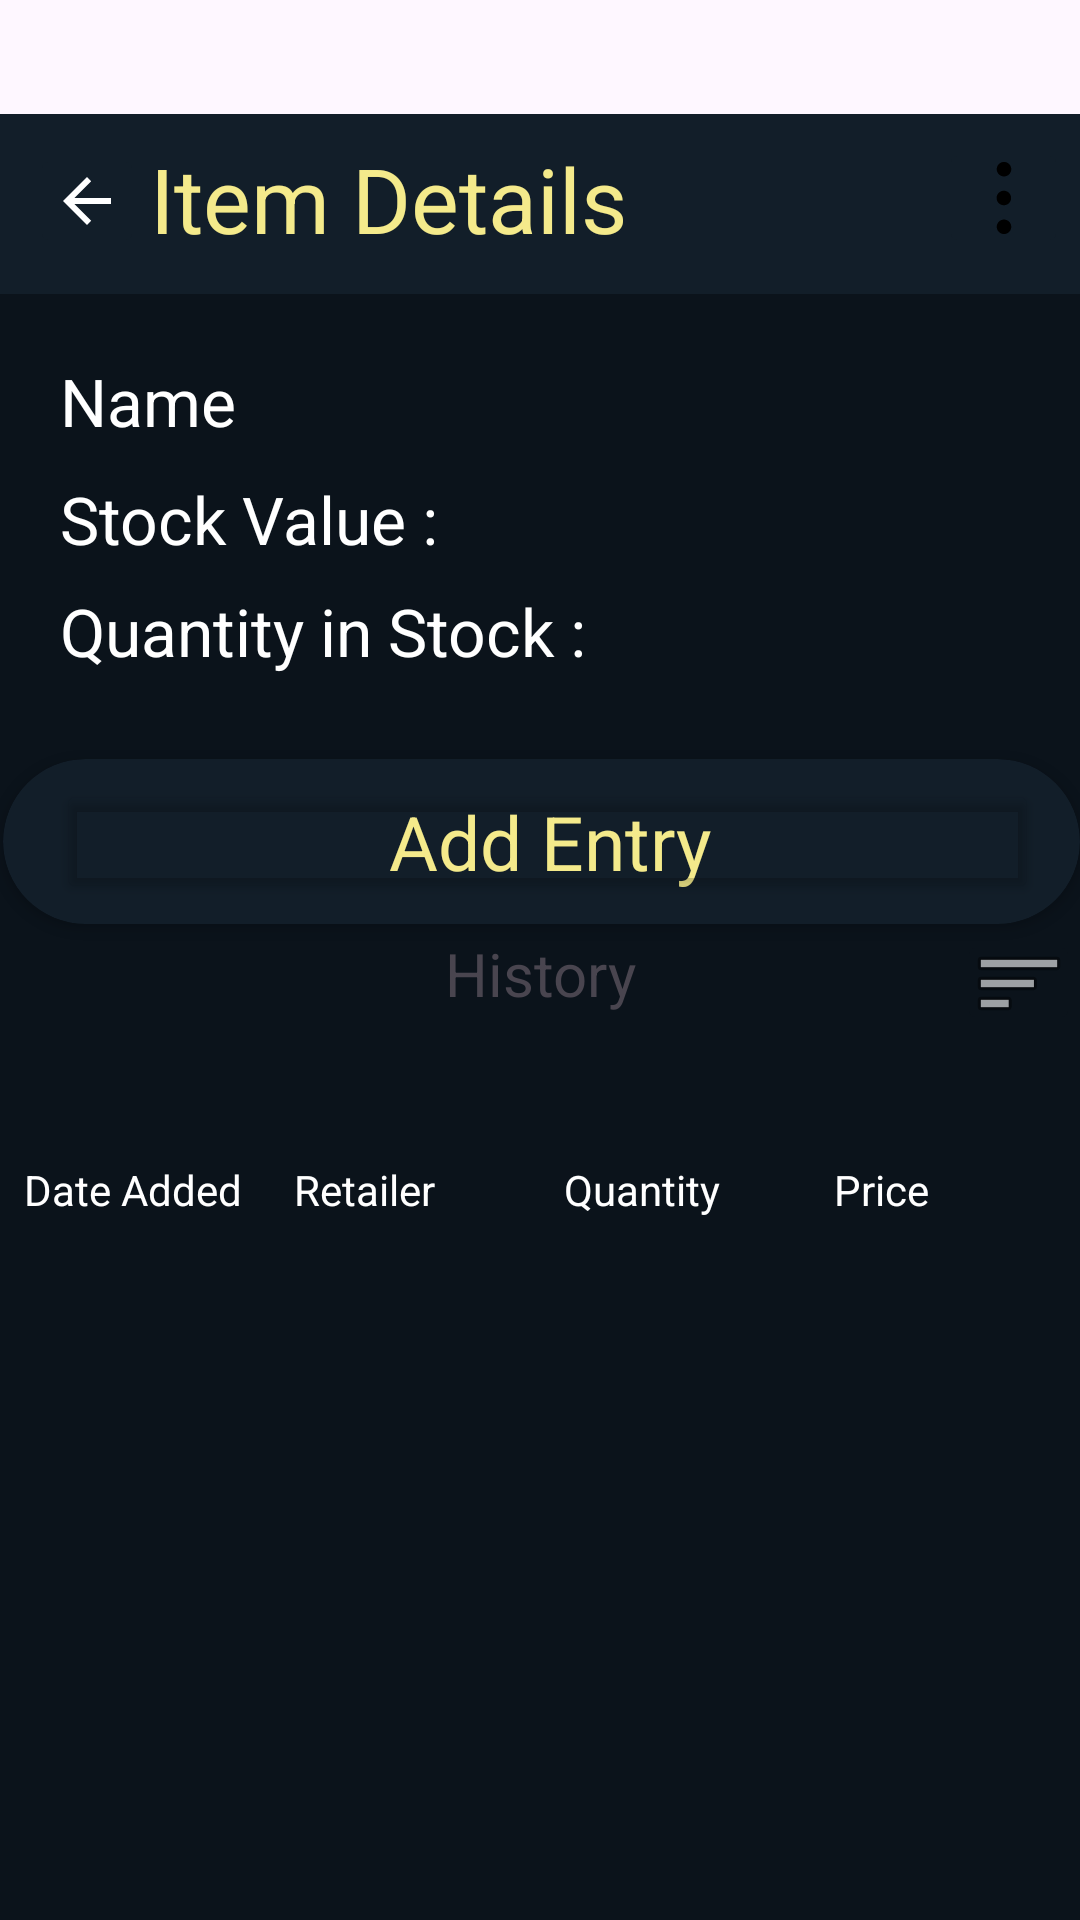

Where to tap for icons on this 1080 x 1920 app screen, as (x,y):
sort by size: (1019,983)
